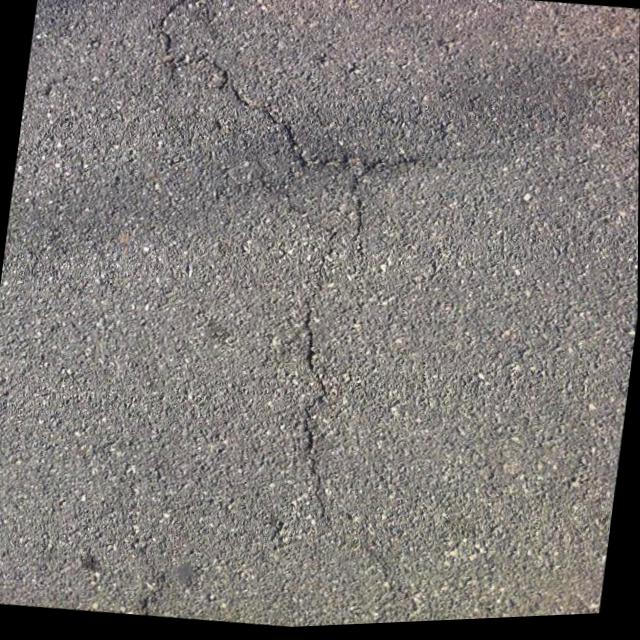Crack: (90, 0, 508, 597)
